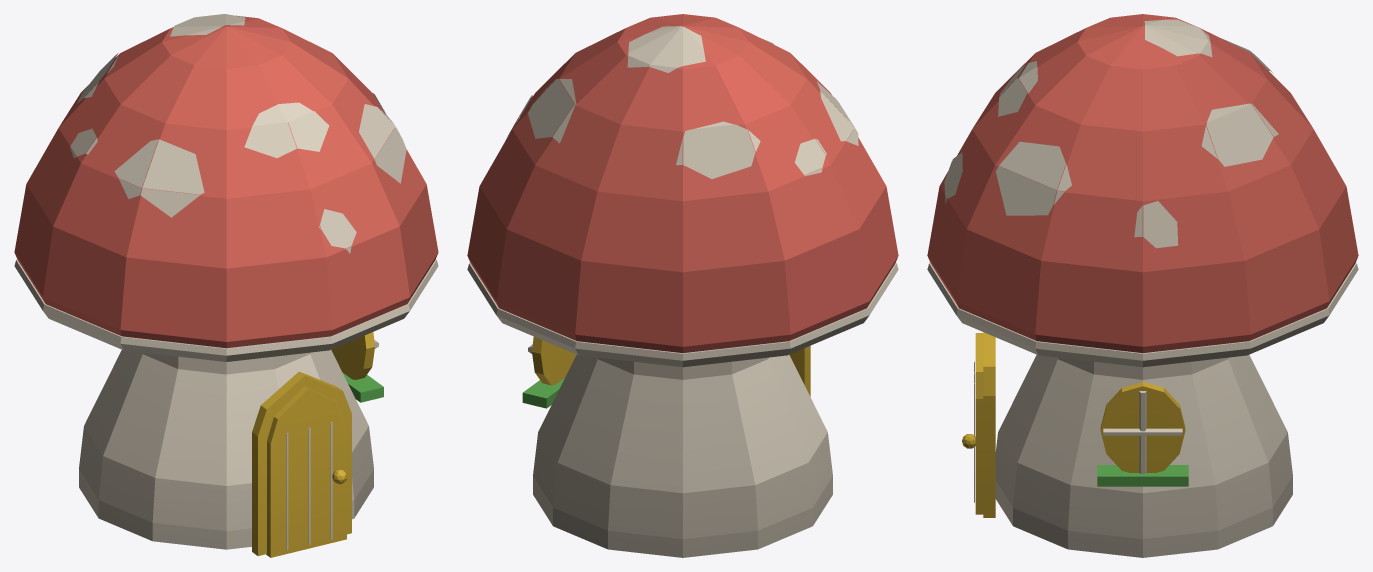
File: mushroom-house.glb
3 renders of one model, left to right at view 1: azimuth 30°, elevation 25°; view 2: azimuth 150°, elevation 25°; view 3: azimuth 270°, elevation 25°, orthographic.
Visible parts, largest first — view 1: pulse_mesh, root_mesh; view 2: pulse_mesh, root_mesh; view 3: pulse_mesh, root_mesh.
Part boxes in pixels (bbox=[...]): pulse_mesh: bbox=[14, 14, 438, 361]; root_mesh: bbox=[79, 332, 383, 557]; pulse_mesh: bbox=[467, 14, 898, 367]; root_mesh: bbox=[522, 336, 832, 557]; pulse_mesh: bbox=[927, 14, 1358, 367]; root_mesh: bbox=[962, 332, 1292, 557].
Size of the model in its own units: 2.5 by 3.01 by 2.5.
